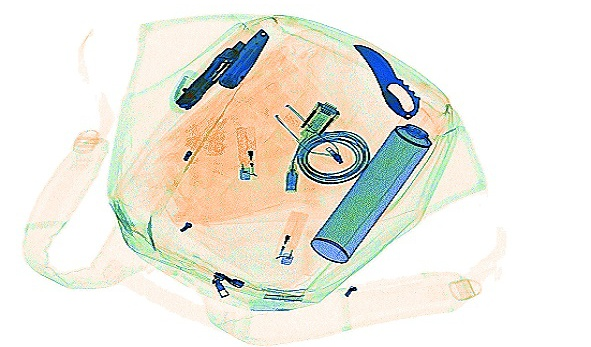knife: (350, 41, 420, 119), (172, 39, 245, 110), (216, 26, 270, 89)
lighter: (270, 208, 310, 266), (232, 124, 261, 181)
pressure: (307, 96, 446, 264)
